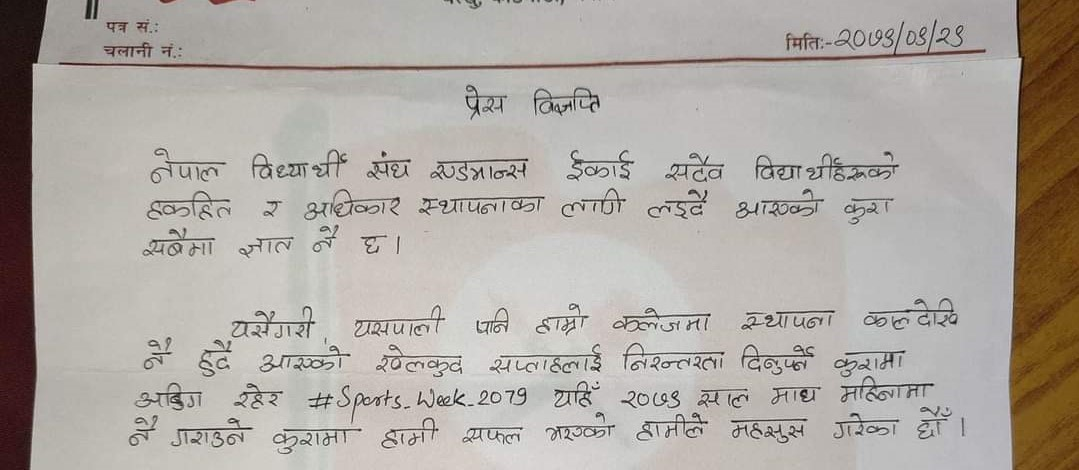text: (748, 150, 900, 185), (833, 16, 969, 55), (249, 144, 349, 183), (487, 343, 608, 375), (861, 295, 965, 332), (372, 342, 469, 380), (301, 187, 404, 222), (225, 304, 315, 343), (619, 342, 724, 374), (144, 188, 234, 225), (610, 306, 713, 337), (732, 187, 823, 222), (414, 192, 546, 216), (351, 305, 444, 339), (148, 145, 223, 186), (169, 415, 249, 453), (254, 344, 346, 376), (428, 156, 533, 184), (138, 226, 219, 262), (736, 343, 814, 379), (837, 375, 930, 405), (562, 146, 633, 184), (729, 414, 809, 447), (269, 424, 354, 455), (632, 410, 709, 444), (555, 186, 629, 221), (643, 188, 714, 224), (529, 84, 601, 119), (737, 308, 835, 333), (831, 410, 901, 445), (131, 381, 204, 414), (831, 346, 908, 377), (542, 412, 615, 444), (379, 414, 438, 452), (663, 151, 728, 185), (458, 82, 510, 122), (533, 300, 588, 336), (840, 192, 894, 227), (456, 423, 526, 447), (235, 233, 297, 260), (549, 378, 601, 410), (365, 150, 415, 183), (695, 383, 751, 412), (619, 387, 683, 412), (233, 380, 284, 411), (196, 339, 233, 380), (914, 404, 955, 440), (140, 334, 174, 373), (471, 306, 511, 338), (124, 415, 160, 450), (767, 384, 823, 406), (308, 224, 342, 256), (358, 234, 387, 258), (259, 196, 284, 221)
